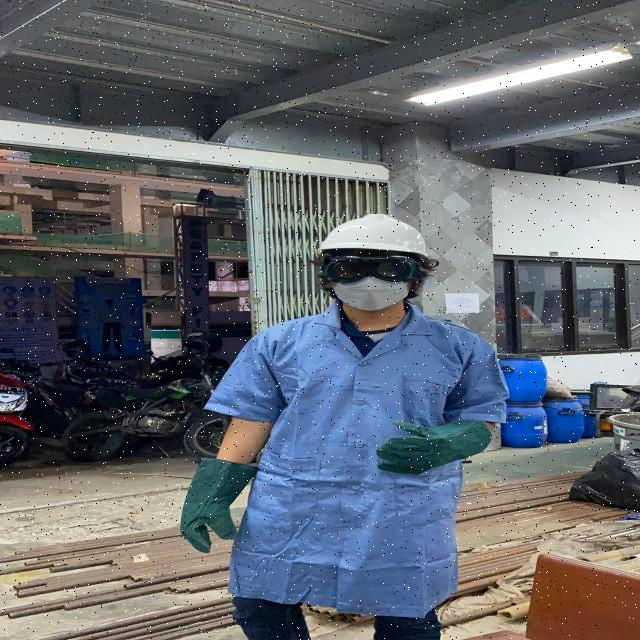Hard_hat: (315, 208, 436, 264)
Person: (178, 212, 512, 640)
